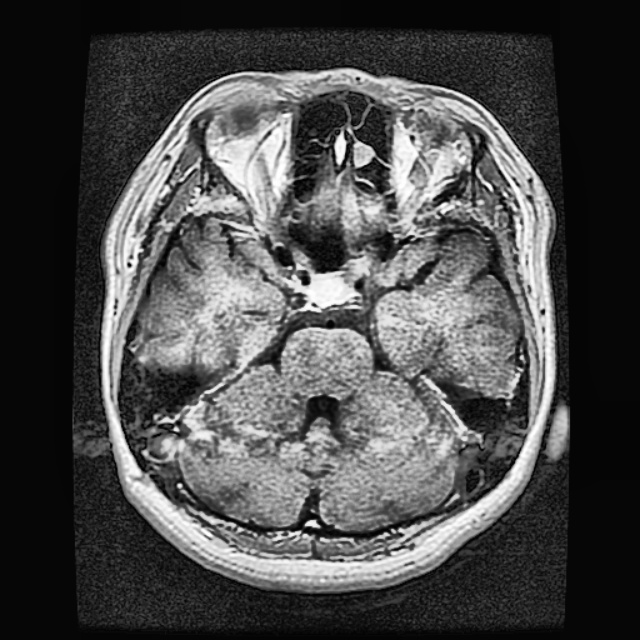Pituitary: (307, 275, 350, 303)
